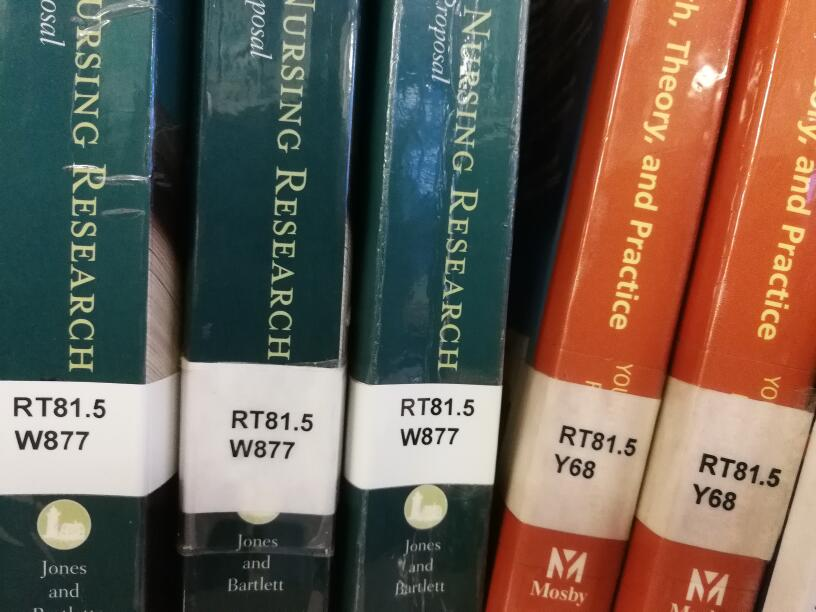booklabel: (691, 450, 783, 512), (12, 394, 107, 453), (552, 421, 639, 480), (226, 406, 315, 461), (398, 395, 477, 447)
